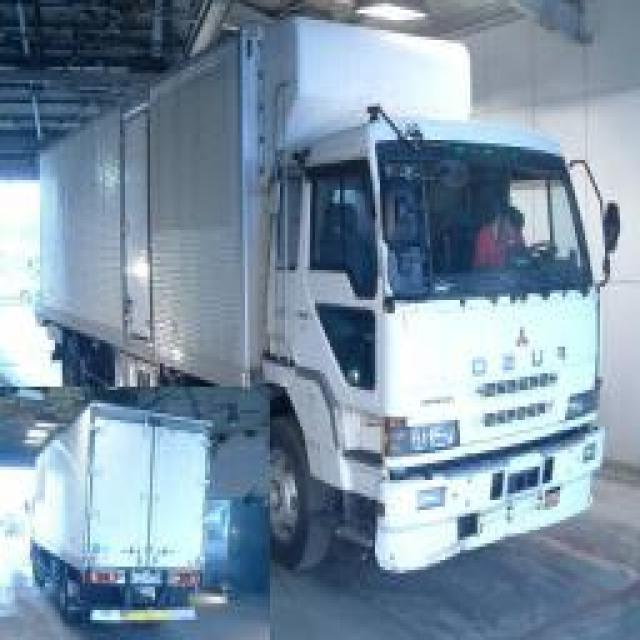truck: (40, 10, 625, 577), (28, 397, 210, 630)
